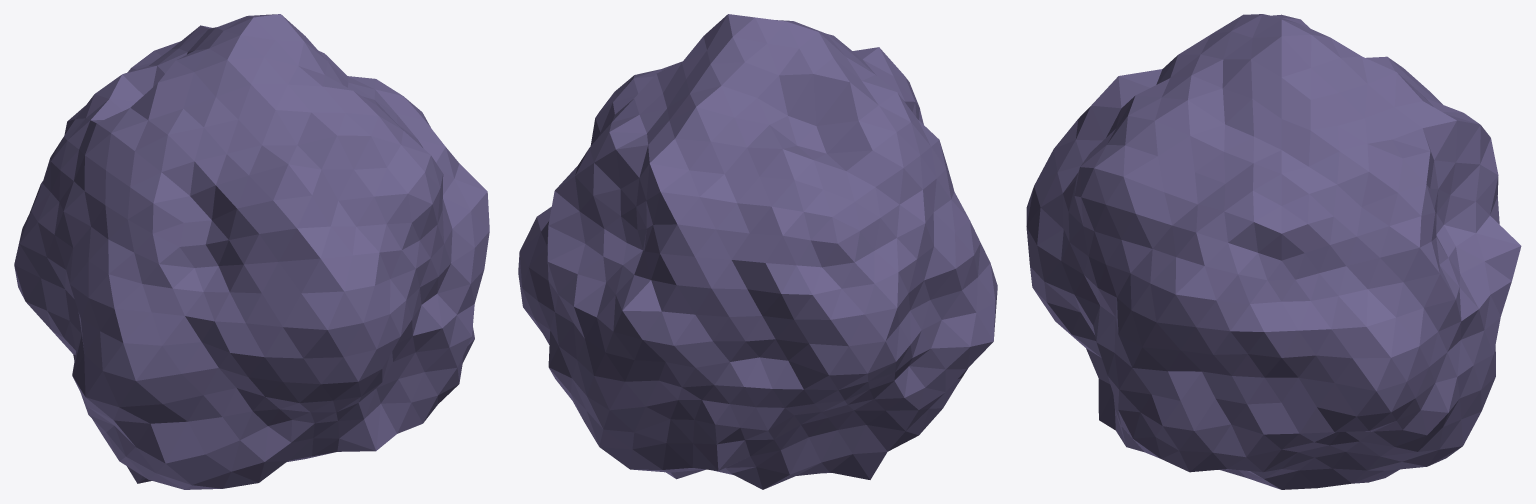
File: asteroid-0.glb
3 renders of one model, left to right at view 1: azimuth 30°, elevation 25°; view 2: azimuth 150°, elevation 25°; view 3: azimuth 270°, elevation 25°, orthographic. The views are drawn at different scales.
Parts seen in each view (by area): view 1: asteroid; view 2: asteroid; view 3: asteroid.
Part boxes in pixels (x1,y1,x2,y2): asteroid: (14, 14, 489, 489); asteroid: (518, 14, 997, 489); asteroid: (1026, 14, 1521, 489).
Size of the model in its own units: 2.05 by 2.18 by 2.17.
